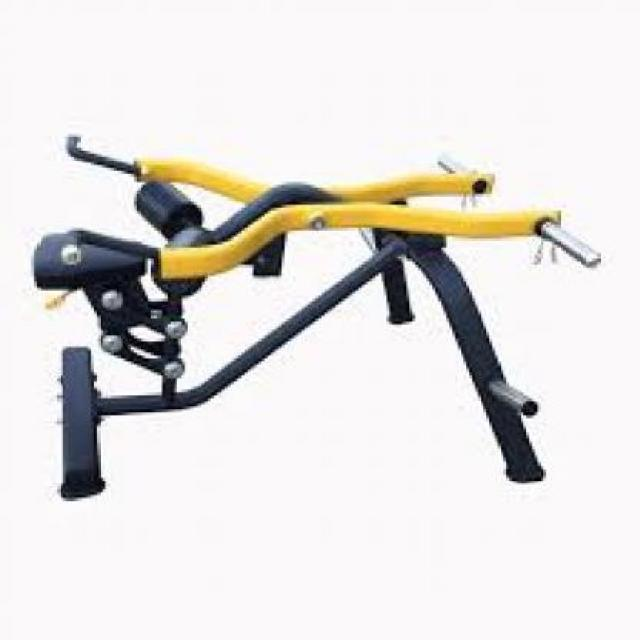seated dip machine: (31, 133, 606, 504)
